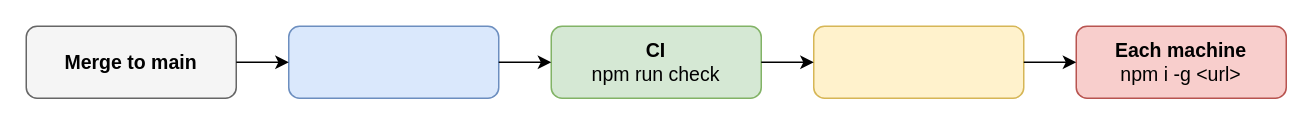
The diagram is 1313 pixels wide and 125 high, and some of its shapes have lost their labels. Here are the shapes that lost their labels. From the top down, the box of each, then its label:
(287, 25, 499, 98): Tag v0.1.98-jadev.N
(812, 25, 1024, 98): GitHub release packed .tgz
